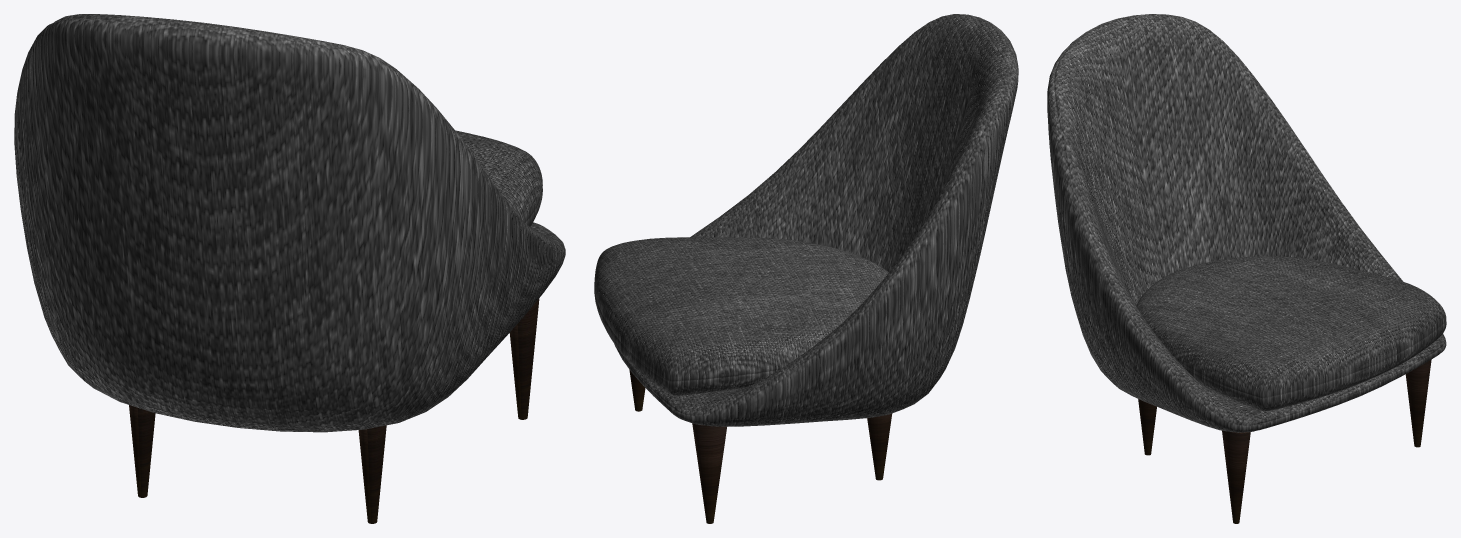
The model's file is Silla1.obj.
3 renders of one model, left to right at view 1: azimuth 30°, elevation 25°; view 2: azimuth 150°, elevation 25°; view 3: azimuth 270°, elevation 25°, orthographic. The views are drawn at different scales.
Parts seen in each view (by area): view 1: dstylish05; view 2: dstylish05; view 3: dstylish05.
Boxes of the visible parts, <box> form: dstylish05: <box>14,14,565,523</box>; dstylish05: <box>594,14,1018,523</box>; dstylish05: <box>1047,14,1446,523</box>.
Size of the model in its own units: 0.8893 by 0.8992 by 0.8887.
Materials: 3 (3 with a texture image).
